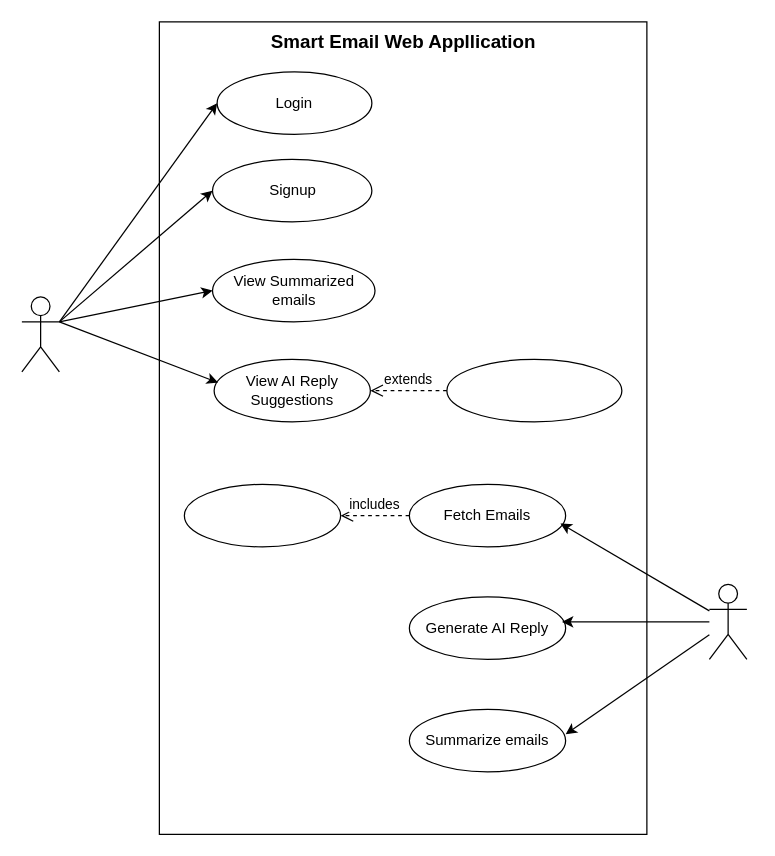
Some shapes in this 775 by 856 pixel diagram are drawn without their labels. The shapes that lost their labels are listed below. From the top down, each one's centre as x and y in pixels, then its label:
point (40, 334): User
point (534, 390): Send AI Suggested Replies
point (262, 515): Categorize emails
point (727, 621): System
